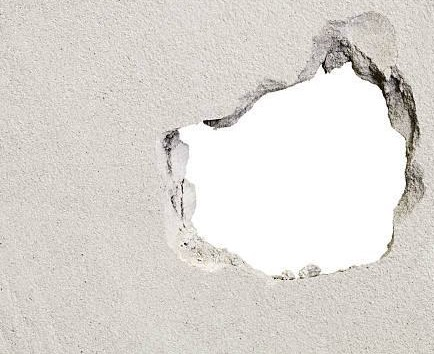Spalling: (162, 31, 426, 282)
